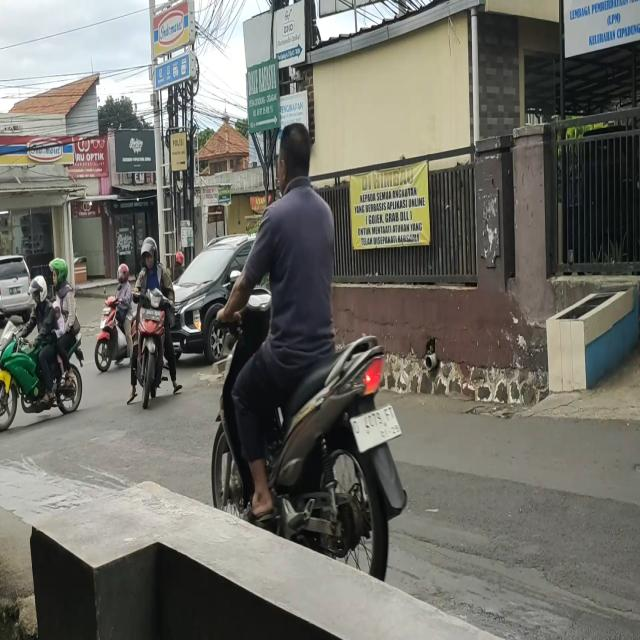helmet: (142, 236, 158, 273), (52, 254, 70, 286), (29, 274, 46, 304), (117, 264, 130, 284)
no-helmet: (276, 122, 311, 187), (53, 300, 61, 322)
